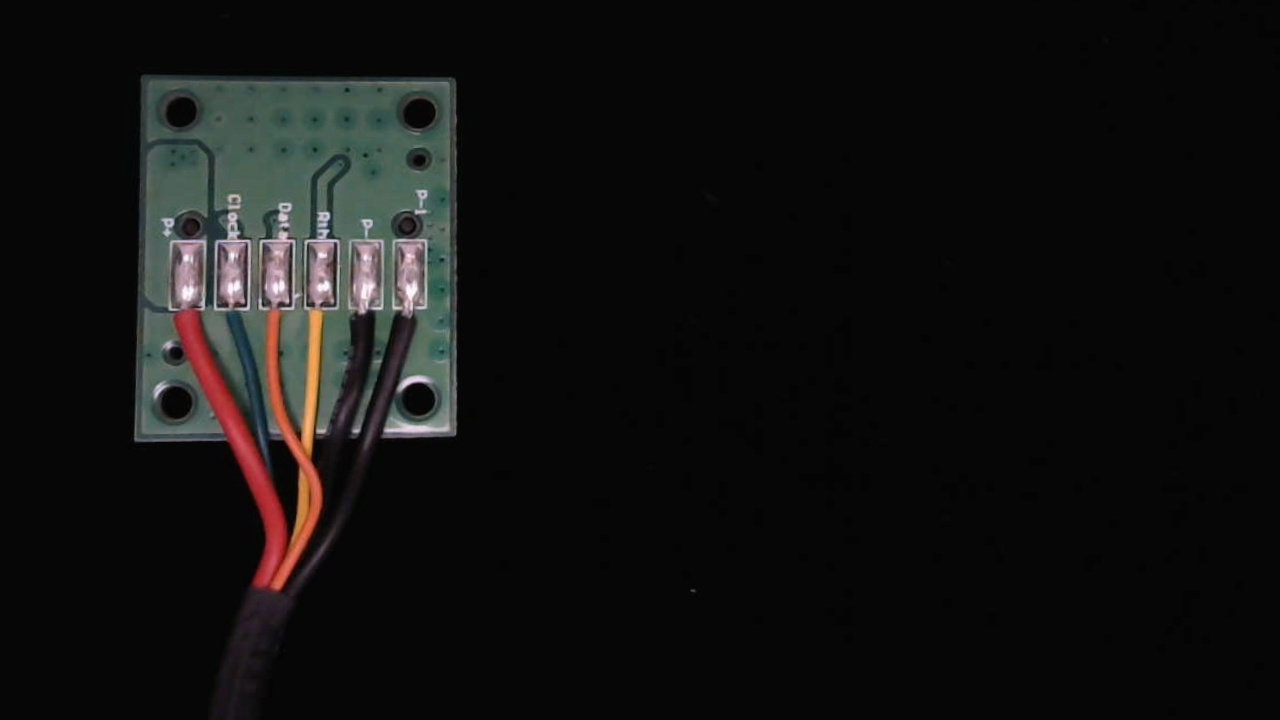Black: (347, 293, 382, 357)
Black1: (389, 294, 427, 357)
Green: (215, 293, 252, 352)
Orange: (259, 292, 292, 356)
Red: (164, 297, 206, 360)
Yellow: (302, 292, 336, 358)
